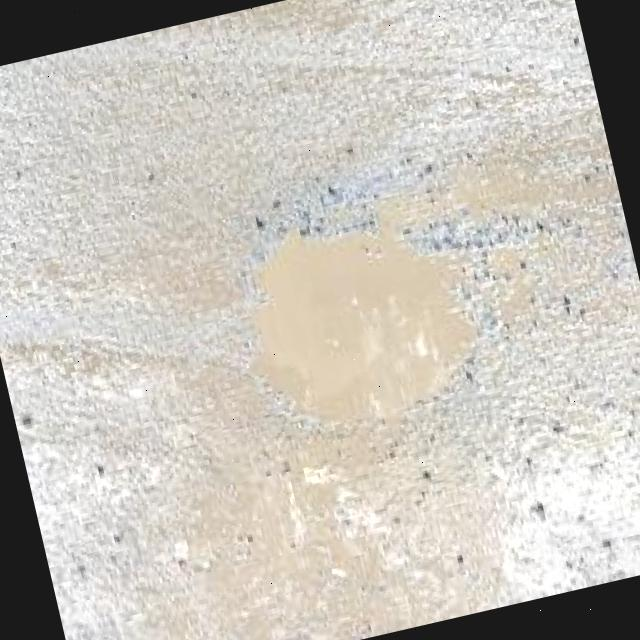stagnation: (190, 157, 552, 472)
